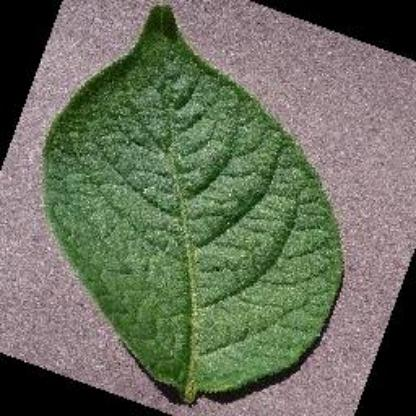Healthy-plant: (35, 7, 371, 403)
